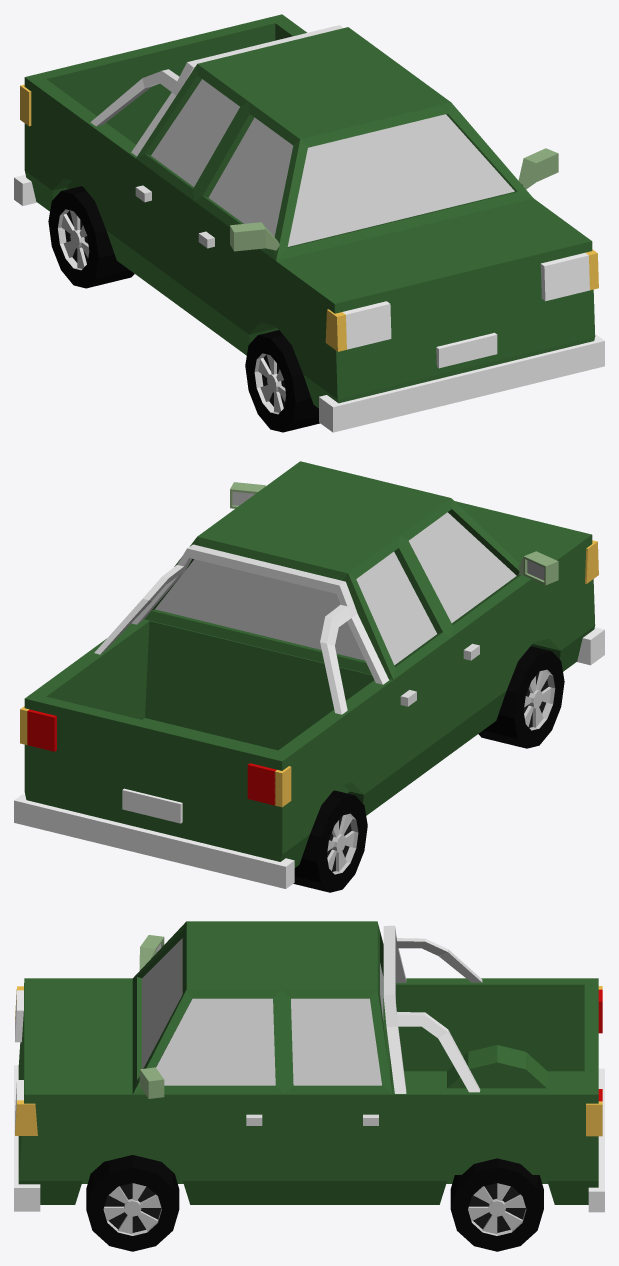
Rendered from Car-10-C.fbx.
The picture shows the model from 3 angles, top to bottom: view 1: azimuth 30°, elevation 25°; view 2: azimuth 150°, elevation 25°; view 3: azimuth 270°, elevation 25°; orthographic projection. The views are drawn at different scales.
Visible parts, largest first — view 1: Car-10, BR, FR, Head-Light, Light-Right; view 2: Car-10, FR, BR, Break-Light, Light-Right; view 3: Car-10, FL, BL, Light-Left, Head-Light.
Part boxes in pixels (x1=…): Car-10: x1=14, y1=14, x2=604, y2=432; BR: x1=48, y1=186, x2=134, y2=288; FR: x1=245, y1=330, x2=319, y2=432; Head-Light: x1=342, y1=253, x2=589, y2=349; Light-Right: x1=20, y1=84, x2=346, y2=351; Car-10: x1=14, y1=461, x2=604, y2=888; FR: x1=478, y1=646, x2=564, y2=748; BR: x1=293, y1=790, x2=367, y2=892; Break-Light: x1=27, y1=709, x2=276, y2=805; Light-Right: x1=274, y1=540, x2=598, y2=807; Car-10: x1=14, y1=921, x2=604, y2=1212; FL: x1=86, y1=1155, x2=179, y2=1251; BL: x1=450, y1=1158, x2=543, y2=1251; Light-Left: x1=15, y1=1100, x2=602, y2=1136; Head-Light: x1=15, y1=990, x2=23, y2=1129.
Size of the model in its own units: 3.25 by 2.44 by 5.54.
